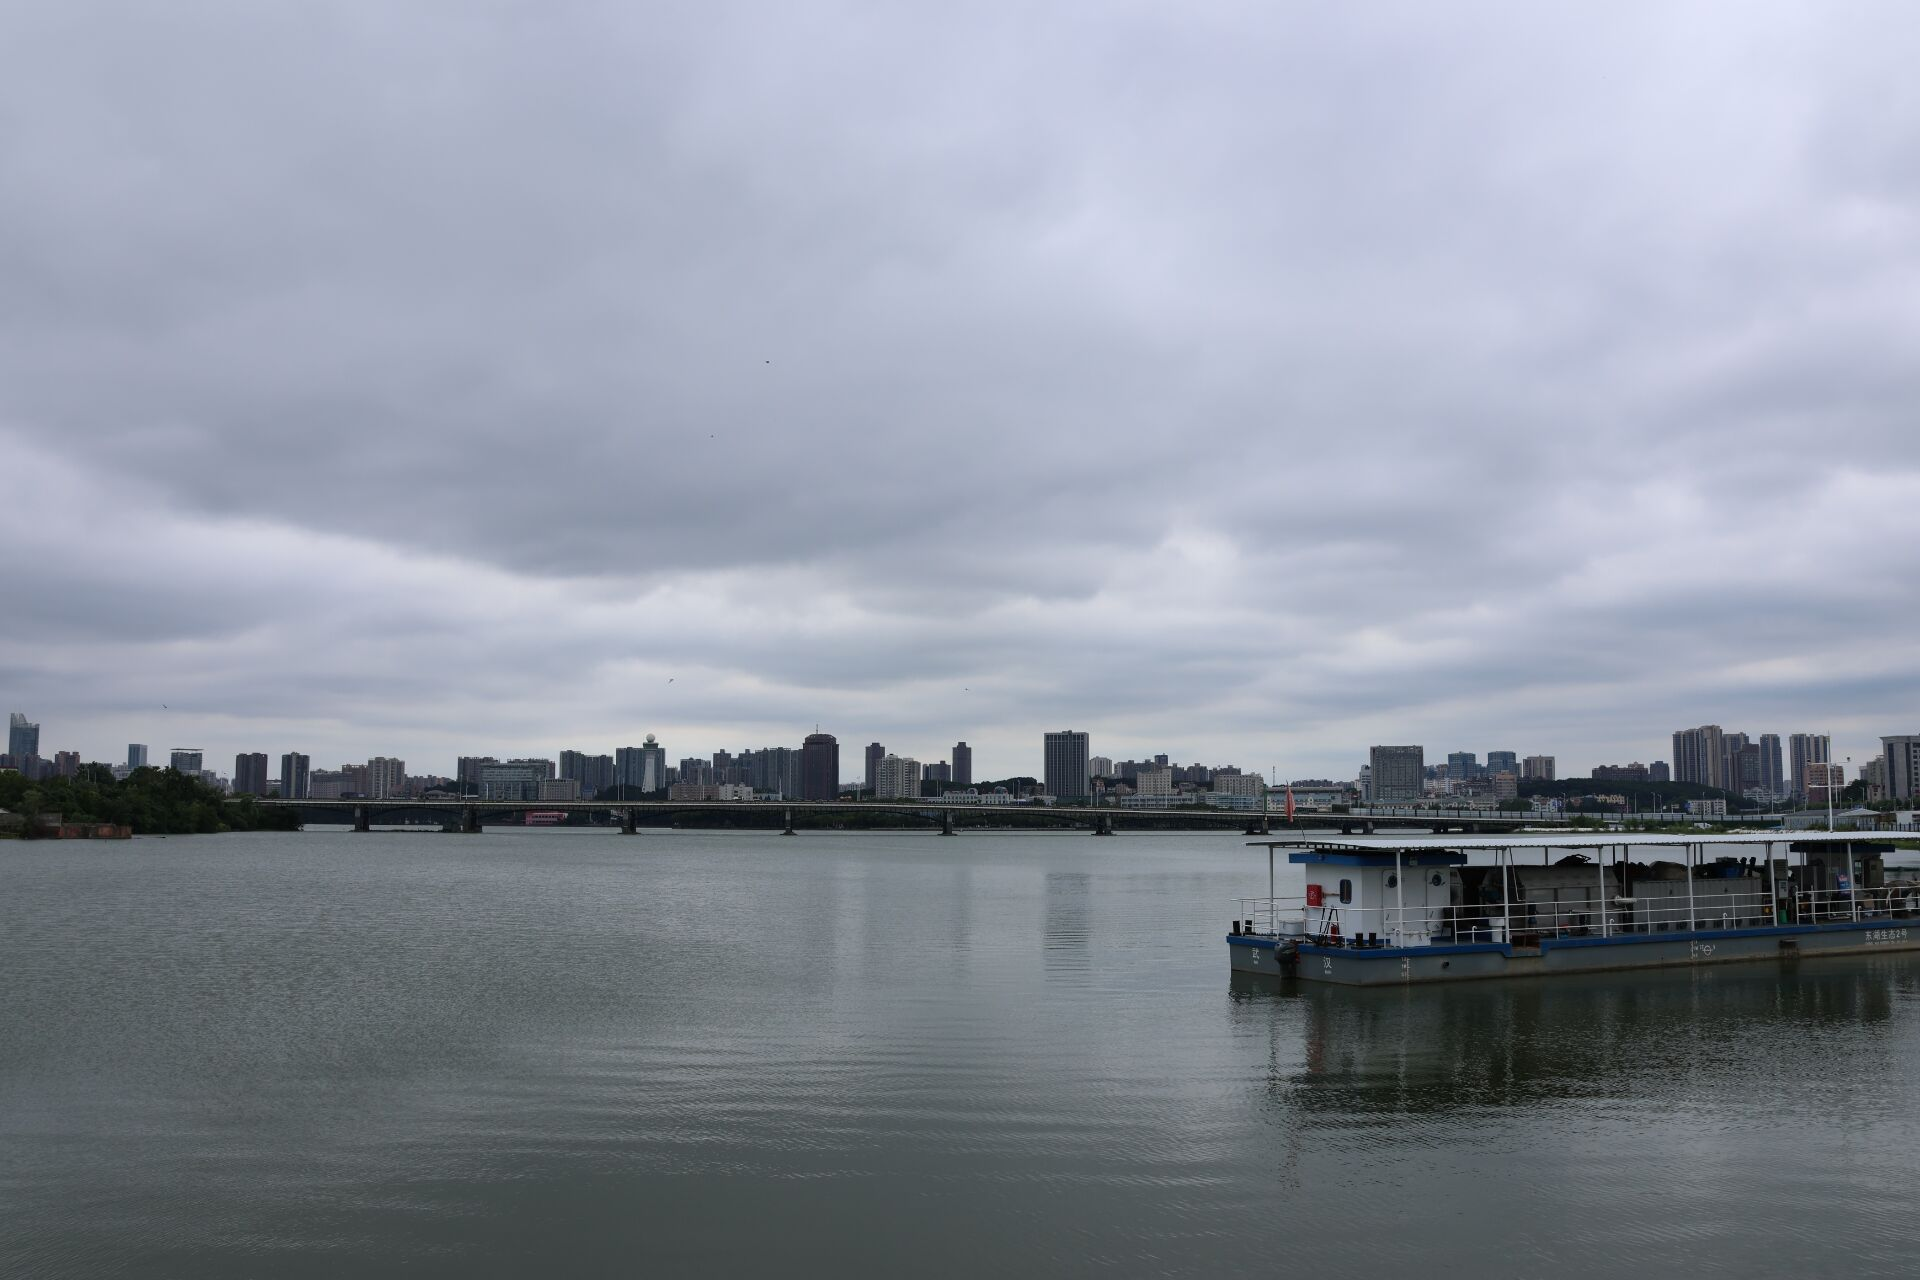Stratus: (14, 11, 1920, 561), (11, 499, 1920, 713)
